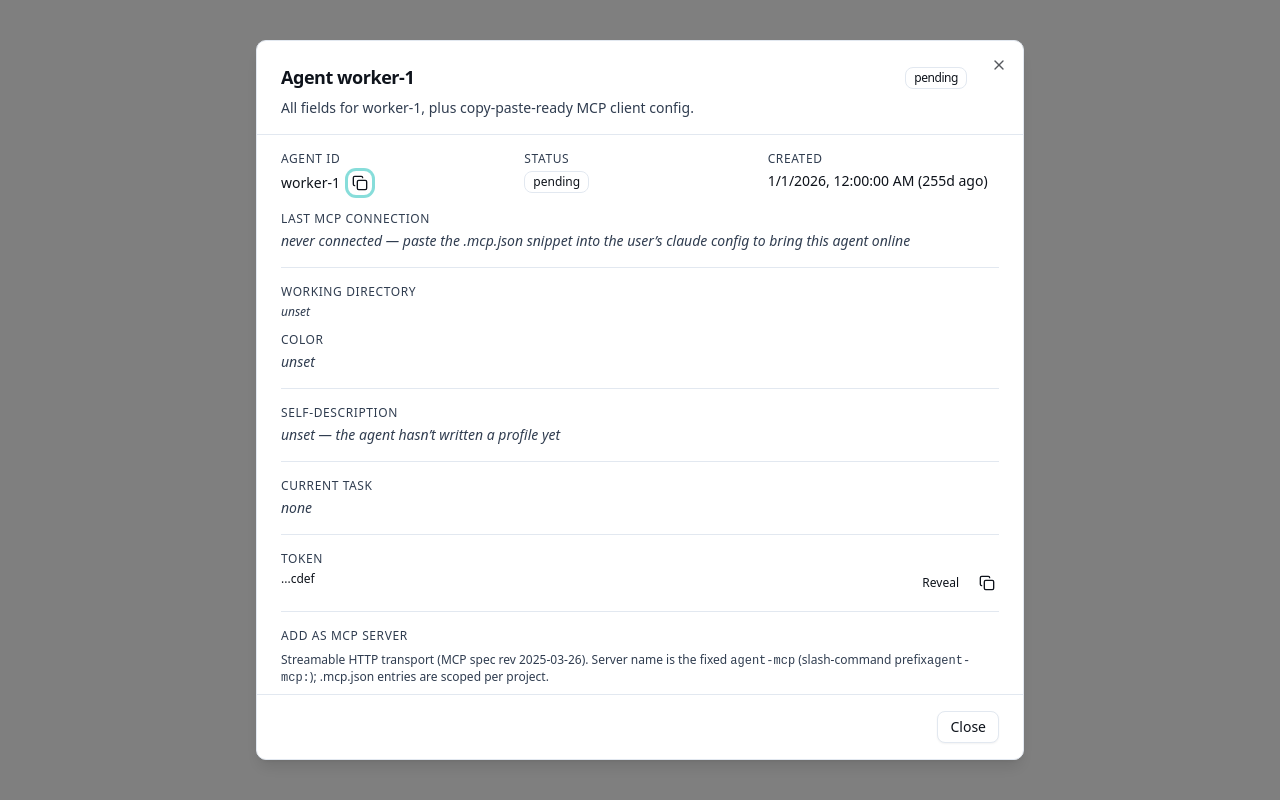
<AgentDetailDialog> › masks the bearer token until Reveal is pressed
Check: the text "...cdef" is shown, box [281,570,315,587]
Click the button "Reveal": click(941, 583) [914,571,967,595]
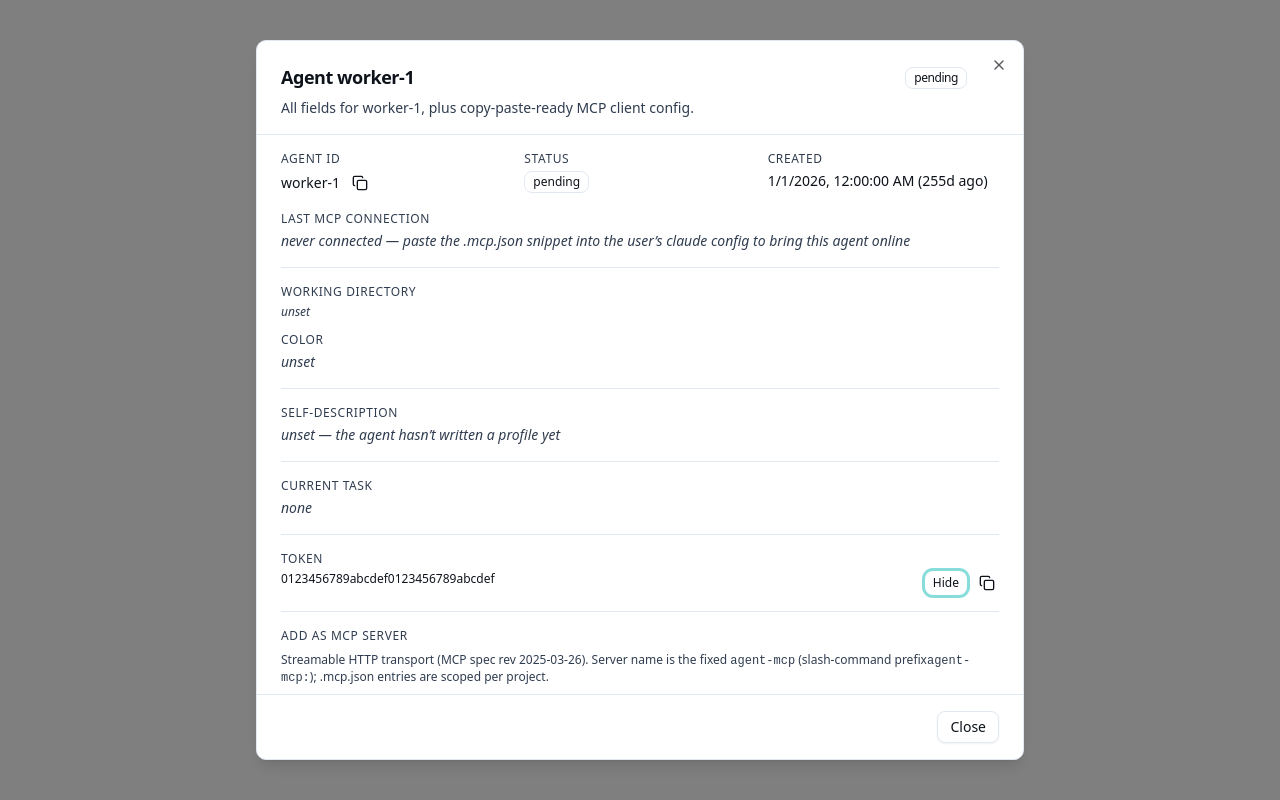
Check: the text "0123456789abcdef0123456789abcdef" is shown, box [281,570,495,587]
